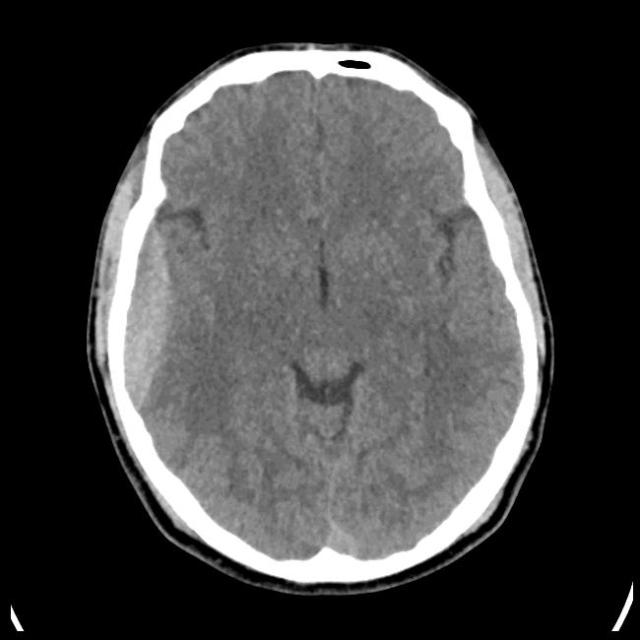lesion: (90, 43, 554, 589)
